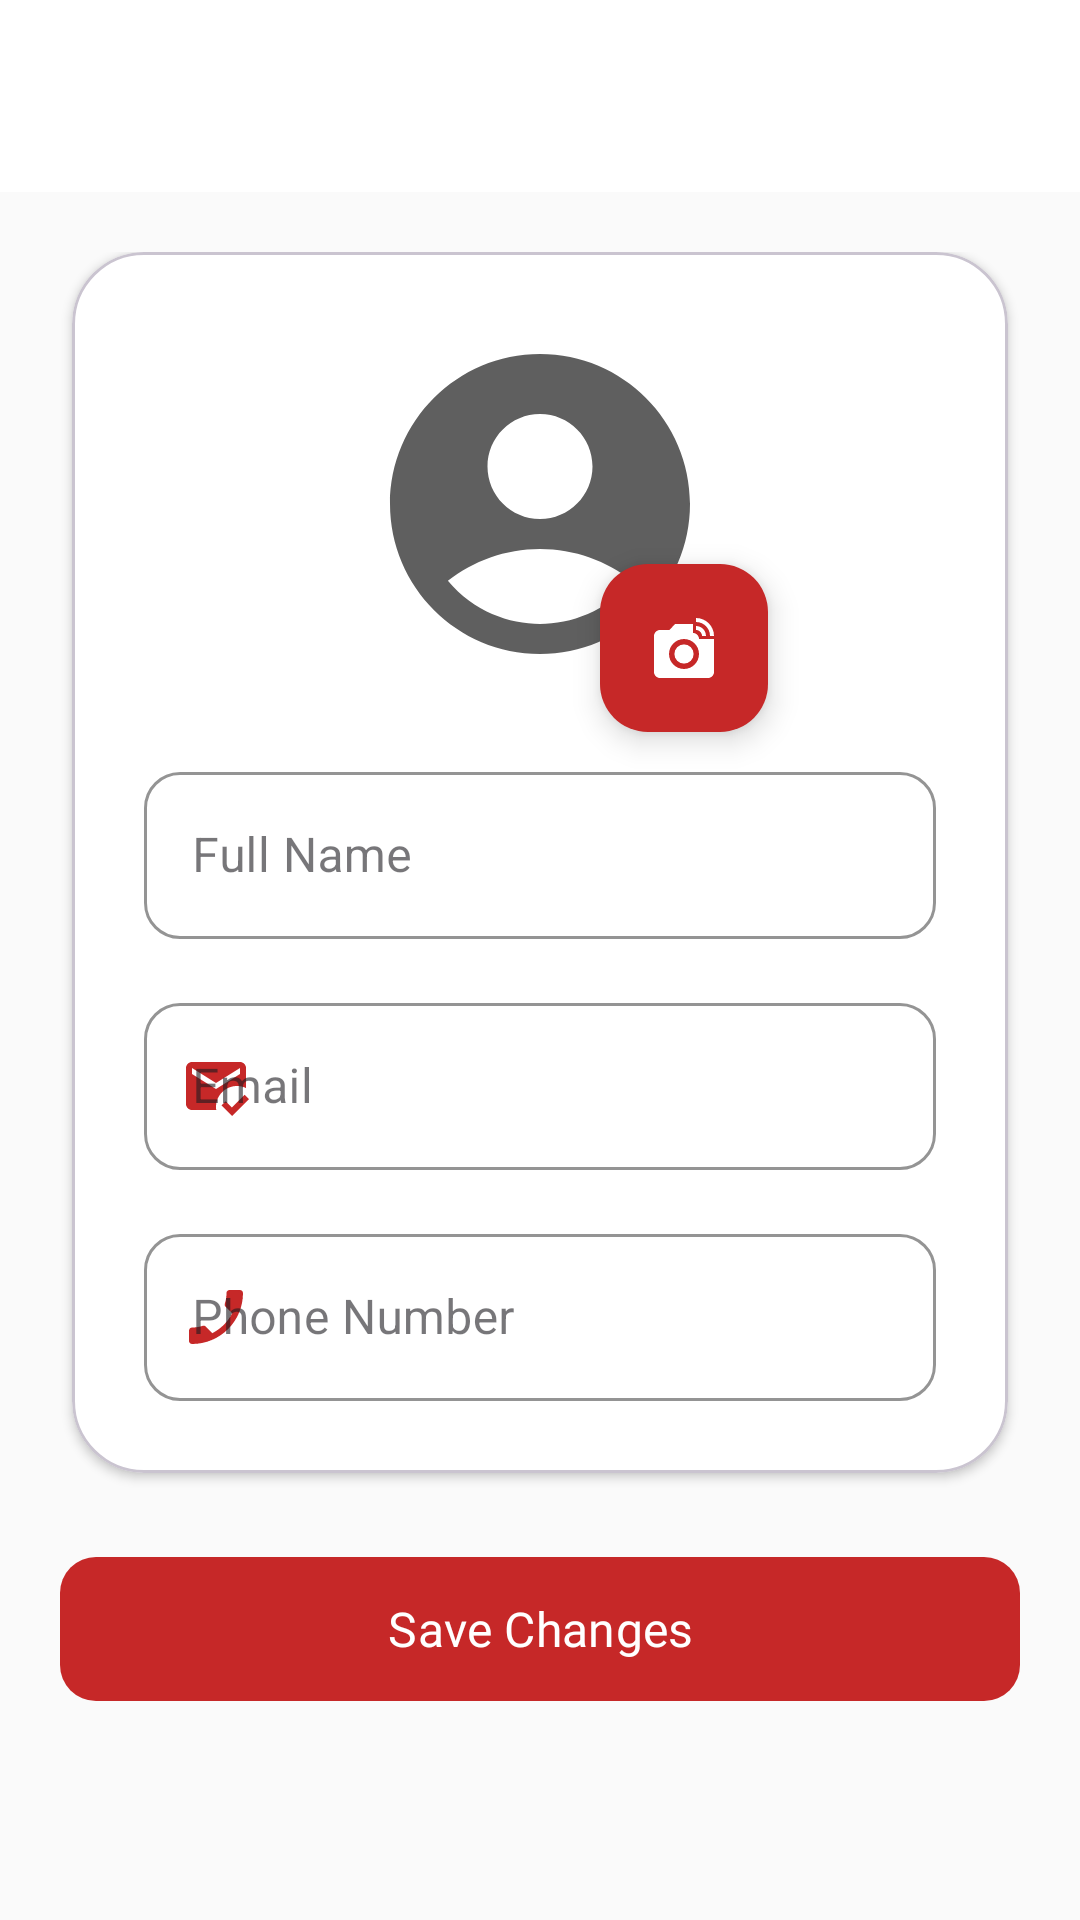

Icon bounding boxes for this 1080px x 1920px phone screenshot, format Rect(x1, y1, x2, y2):
camera: Rect(600, 564, 768, 732)
